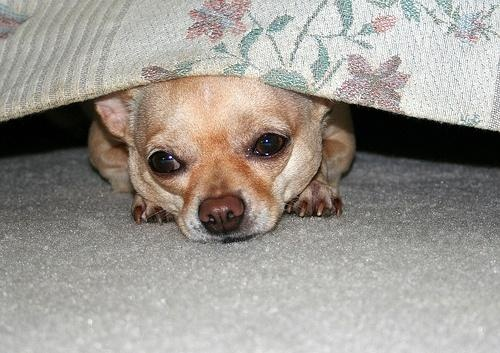dog: (81, 53, 374, 248)
